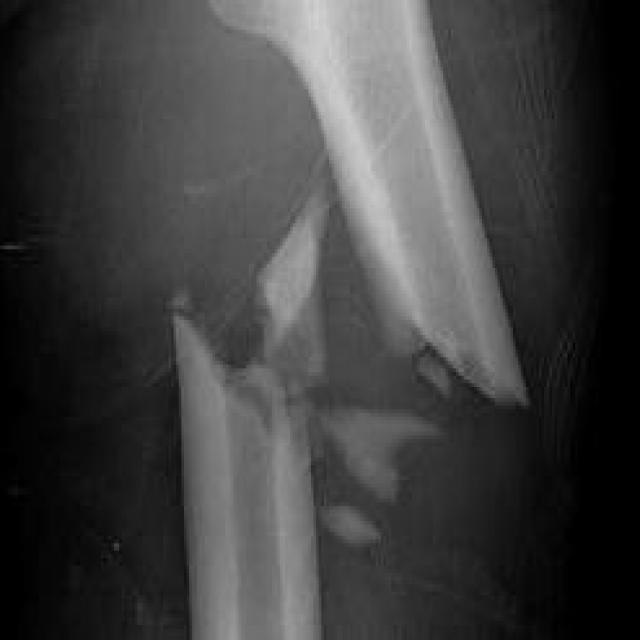Broken: (207, 1, 529, 396), (173, 315, 324, 637), (256, 212, 325, 391), (333, 418, 443, 502)
